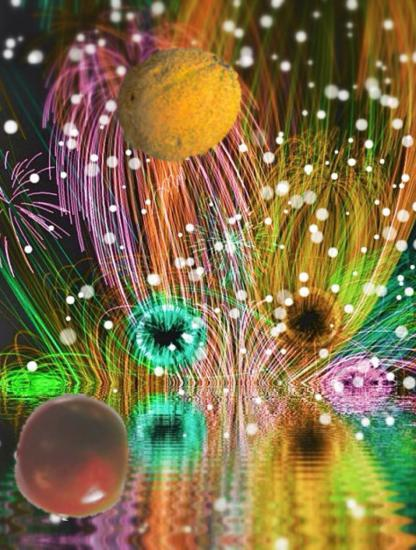Cantaloupe: (114, 38, 245, 169)
Tomato: (8, 393, 136, 521)
